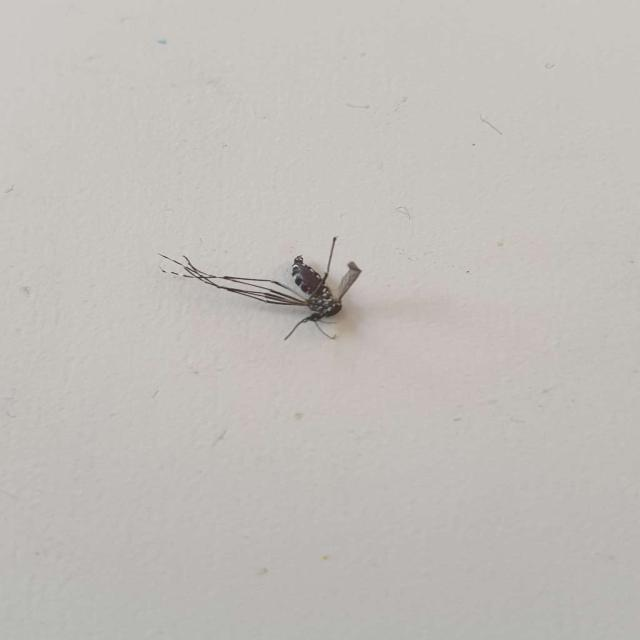albopictus: (163, 222, 371, 348)
